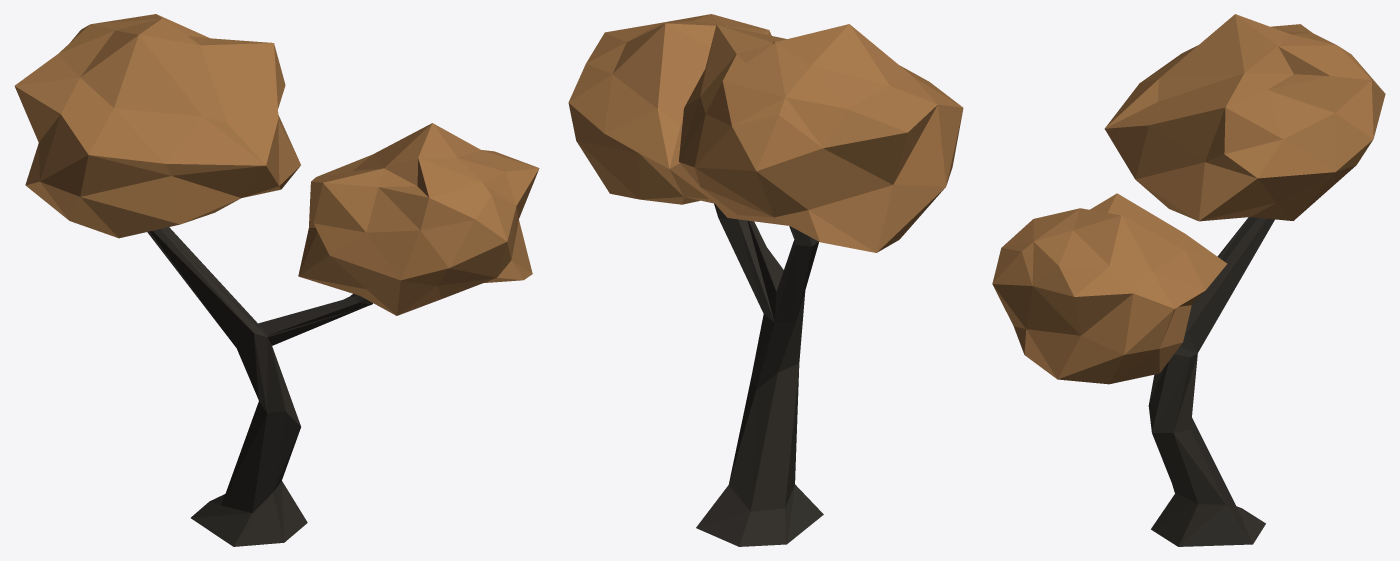
File: KOKS_001.FBX
3 views of the same model, side by side, from view 1: azimuth 30°, elevation 25°; view 2: azimuth 150°, elevation 25°; view 3: azimuth 270°, elevation 25° (orthographic). The views are drawn at different scales.
Parts seen in each view (by area): view 1: KOKS_001; view 2: KOKS_001; view 3: KOKS_001.
Boxes of the visible parts, x1,y1,x2,y2 form: KOKS_001: (14,14,539,546); KOKS_001: (568,14,963,546); KOKS_001: (992,14,1385,546).
Size of the model in its own units: 10003 by 11673 by 8843.
Materials: 1 (1 with a texture image).
